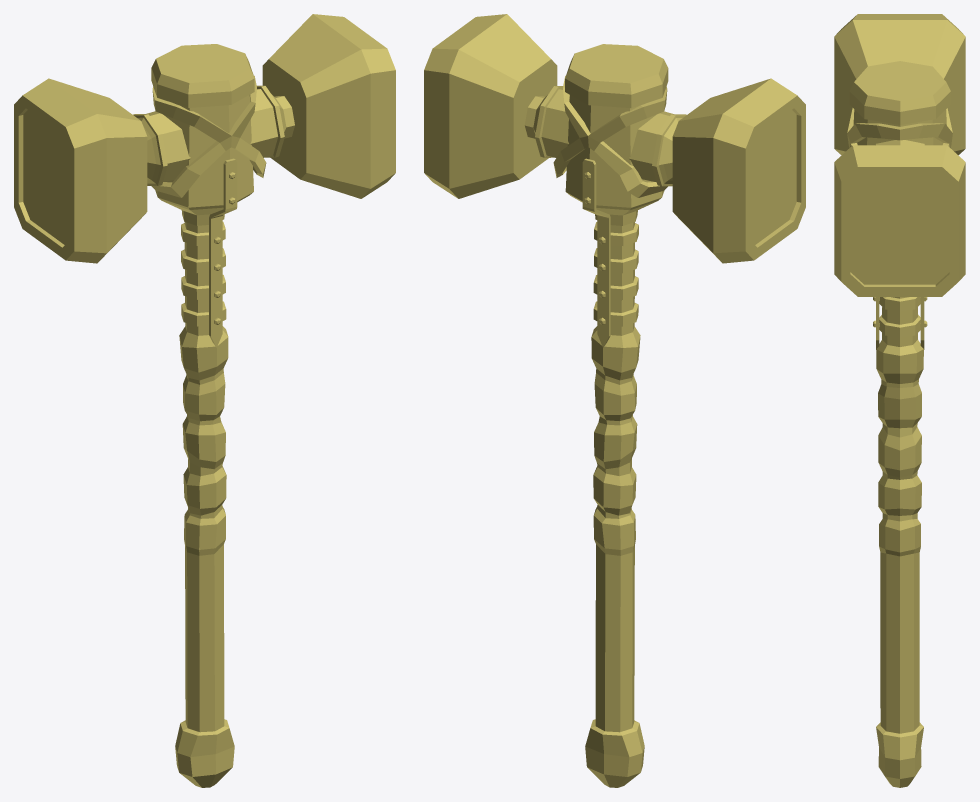
The model's file is martillooro.glb.
3 views of the same model, side by side, from view 1: azimuth 30°, elevation 25°; view 2: azimuth 150°, elevation 25°; view 3: azimuth 270°, elevation 25° (orthographic). The views are drawn at different scales.
Visible parts, largest first — view 1: Hammer_Double_Golden_Cylinder.040; view 2: Hammer_Double_Golden_Cylinder.040; view 3: Hammer_Double_Golden_Cylinder.040.
Boxes of the visible parts, x1,y1,x2,y2 form: Hammer_Double_Golden_Cylinder.040: (14,14,395,787); Hammer_Double_Golden_Cylinder.040: (424,14,805,787); Hammer_Double_Golden_Cylinder.040: (834,14,965,787).
Size of the model in its own units: 1.18 by 2.53 by 0.4291.
